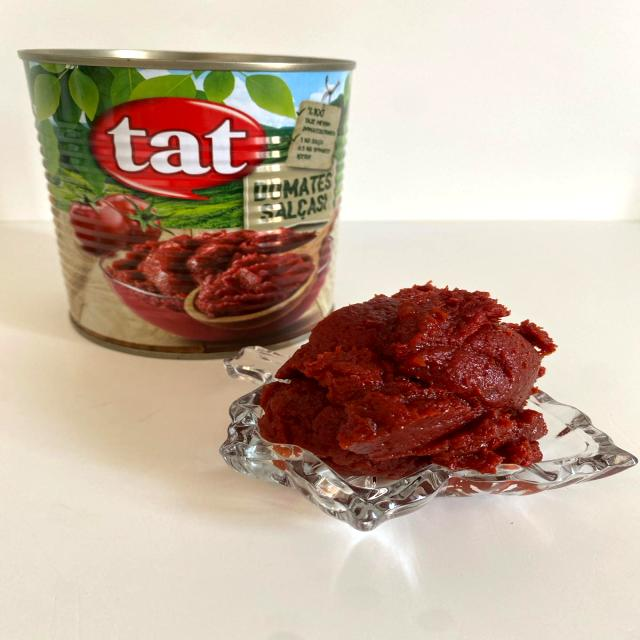tomato paste: (27, 47, 354, 345), (269, 298, 556, 471)
